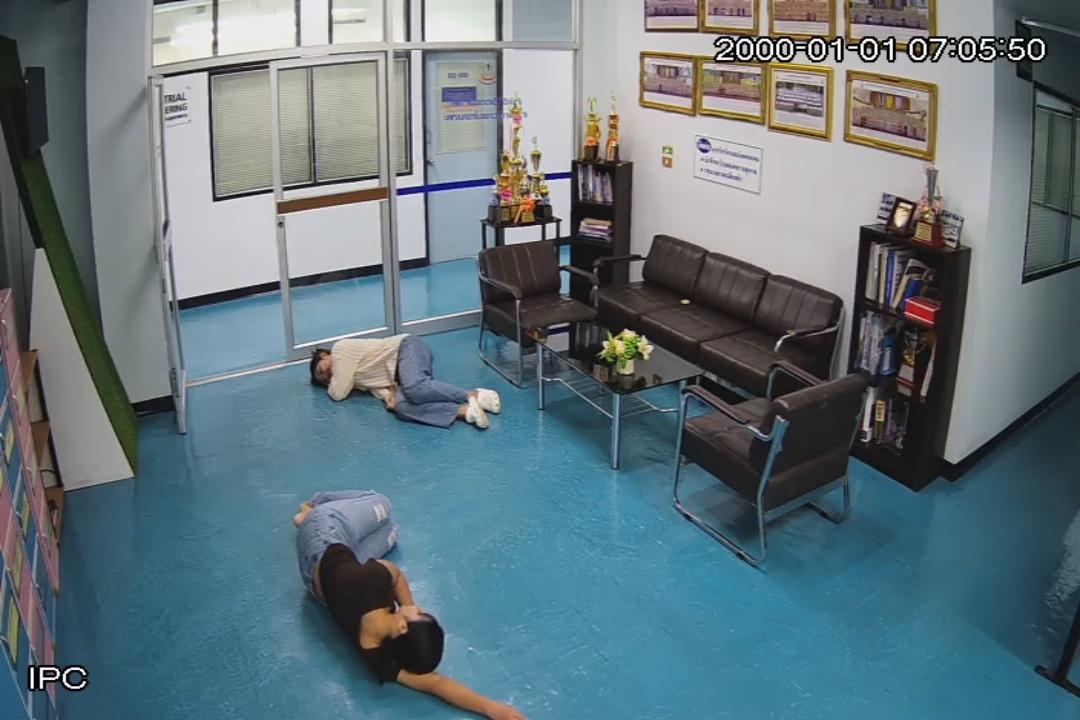fall: (295, 490, 518, 720), (311, 337, 496, 432)
